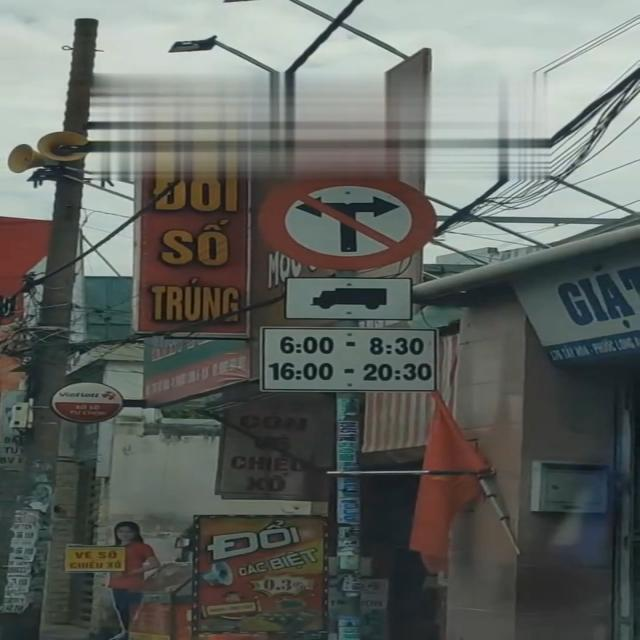137-cam-re-trai-va-re-phai: (260, 172, 438, 272)
